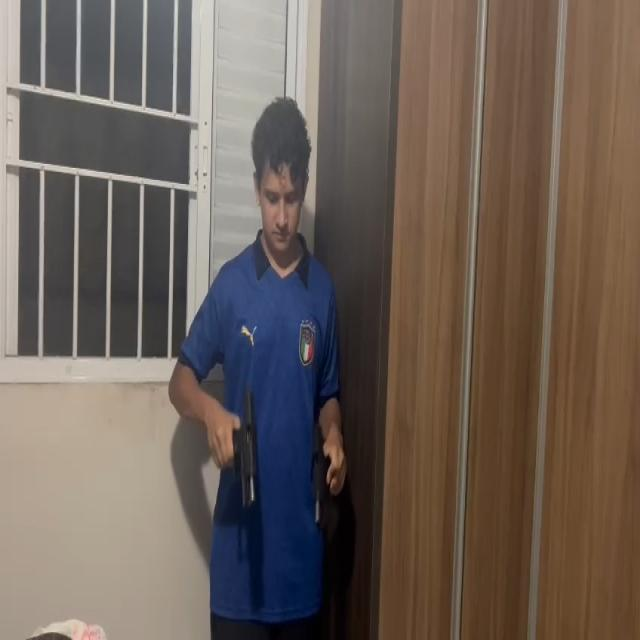gun: (234, 386, 259, 504), (310, 423, 330, 528)
